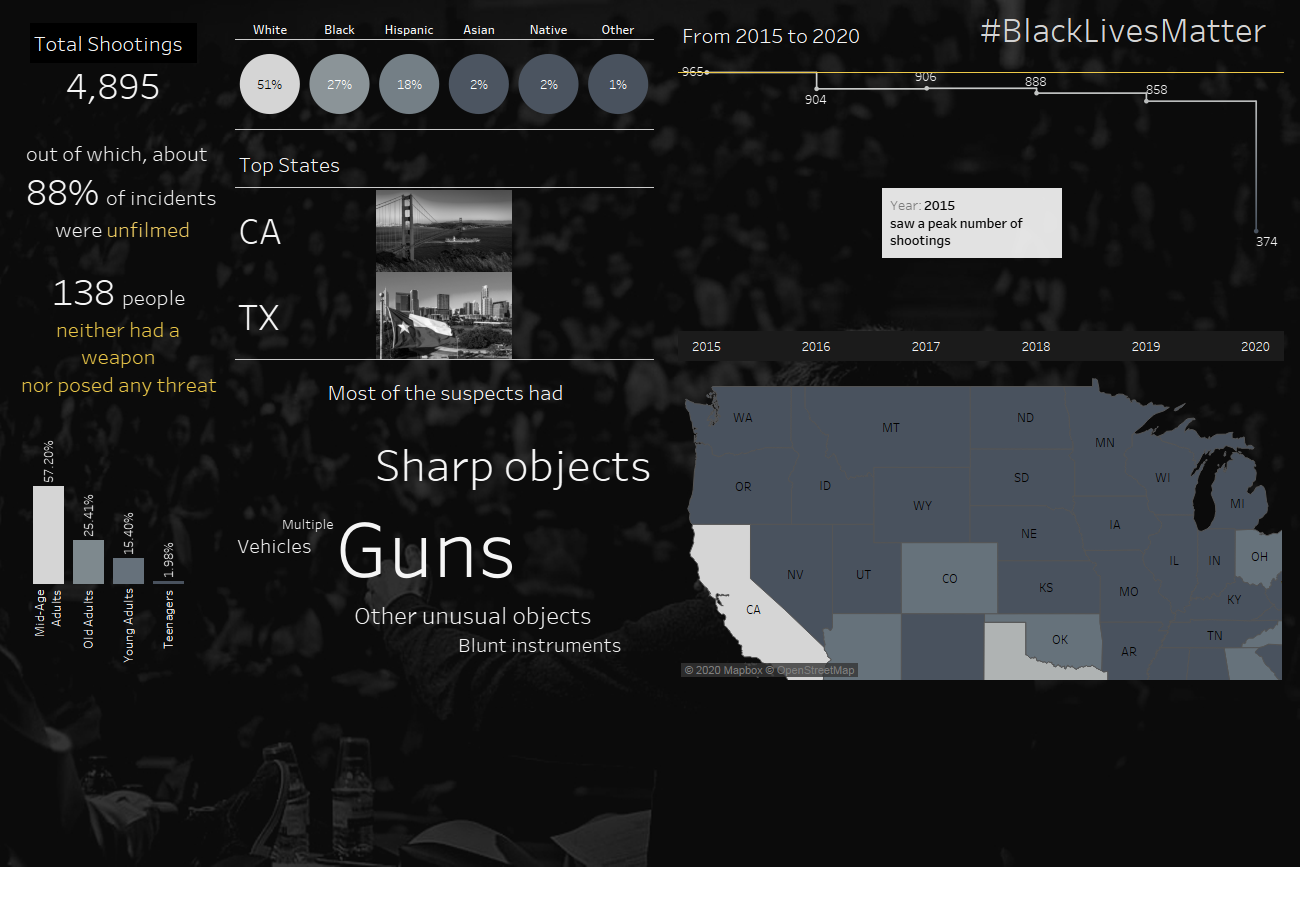

This screenshot's page, from the dashboard's own definition file:
{"tool":"tableau","page":{"name":"Police Shootings","canvas":[1000,1300],"ordinal":0},"visuals":[{"type":"image","param":"Image/man-speaking-in-front-of-crowd2.jpg","box":[0,0,1000,1300]},{"type":"blank","box":[4,4,991,141]},{"type":"worksheet","title":"Fled","mark":"Automatic","box":[732,9,226,114]},{"type":"worksheet","title":"without bodycam","mark":"Automatic","box":[219,18,236,126]},{"type":"worksheet","title":"Total Shootings","mark":"Automatic","box":[8,19,186,141]},{"type":"worksheet","title":"no weapon","mark":"Automatic","box":[458,19,259,115]},{"type":"worksheet","title":"Attackers","mark":"Shape","rows":["threat_level"],"cols":["race"],"box":[639,163,339,234]},{"type":"worksheet","title":"Races","mark":"Pie","rows":["race"],"box":[29,167,216,425]},{"type":"worksheet","title":"Top States","mark":"Shape","rows":["state"],"box":[251,184,377,391]},{"type":"worksheet","title":"Age group","mark":"Automatic","rows":["Number of Records","Number of Records"],"cols":["Calculation_132011770741653515"],"box":[729,391,257,233]},{"type":"text","box":[216,621,535,56]},{"type":"blank","box":[3,630,993,658]},{"type":"worksheet","title":"year-wise cases","mark":"Shape","rows":["Number of Records","Number of Records"],"cols":["date"],"box":[12,678,523,248]},{"type":"worksheet","title":"map view","mark":"Multipolygon","box":[543,696,443,317]},{"type":"worksheet","title":"Weapons","mark":"Text","box":[12,929,325,356]},{"type":"worksheet","title":"Top City","mark":"Automatic","rows":["city","Number of Records","Number of Records"],"cols":["date"],"box":[358,1007,625,241]}]}

Visuals, with their boxes on the page's 1000x1300 design canvas (x1, y1, x2, y2). These are canvas units, not pixel positions in the 1300x900 screenshot, which may show the page scaled, cropped or inside an application window:
image: [0,0,1000,1300]
blank: [4,4,995,145]
"Fled" worksheet: [732,9,958,123]
"without bodycam" worksheet: [219,18,455,144]
"Total Shootings" worksheet: [8,19,194,160]
"no weapon" worksheet: [458,19,717,134]
"Attackers" worksheet (Shape marks): [639,163,978,397]
"Races" worksheet (Pie marks): [29,167,245,592]
"Top States" worksheet (Shape marks): [251,184,628,575]
"Age group" worksheet: [729,391,986,624]
text: [216,621,751,677]
blank: [3,630,996,1288]
"year-wise cases" worksheet (Shape marks): [12,678,535,926]
"map view" worksheet (Multipolygon marks): [543,696,986,1013]
"Weapons" worksheet (Text marks): [12,929,337,1285]
"Top City" worksheet: [358,1007,983,1248]
